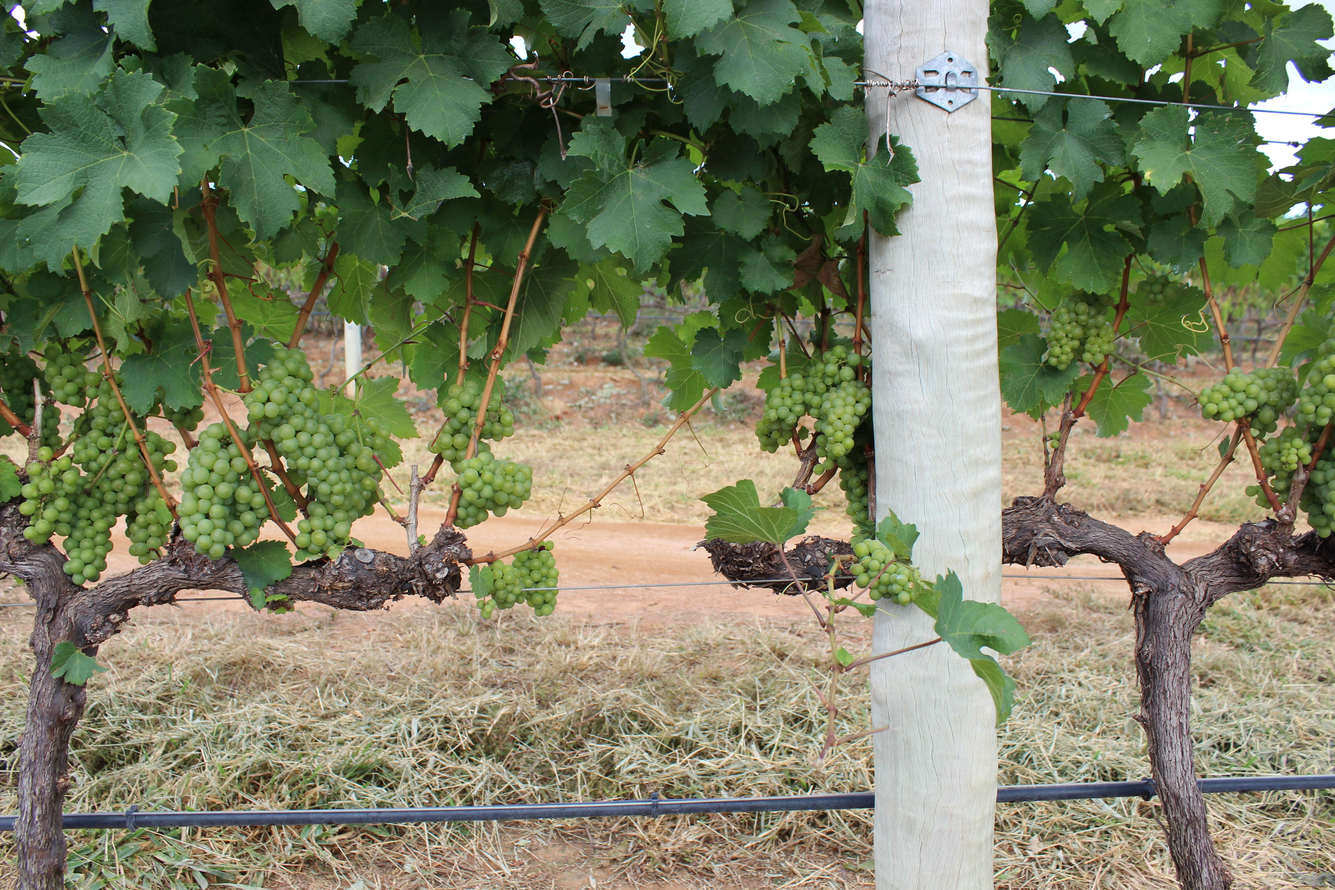leaf: (14, 72, 182, 268), (168, 66, 335, 238), (350, 8, 515, 146), (561, 138, 708, 272), (1131, 106, 1257, 226), (695, 0, 811, 105), (1020, 99, 1124, 200), (1250, 3, 1335, 93), (120, 324, 203, 413), (700, 479, 811, 544), (987, 14, 1074, 92), (999, 333, 1079, 414), (271, 0, 357, 44), (51, 640, 107, 685), (1008, 94, 1048, 113), (581, 126, 588, 134), (24, 217, 32, 222), (615, 134, 621, 139), (144, 2, 146, 6), (785, 501, 787, 504), (612, 131, 614, 134), (1003, 93, 1005, 95), (608, 128, 610, 129), (812, 511, 813, 512), (803, 492, 804, 493), (598, 128, 602, 128)
